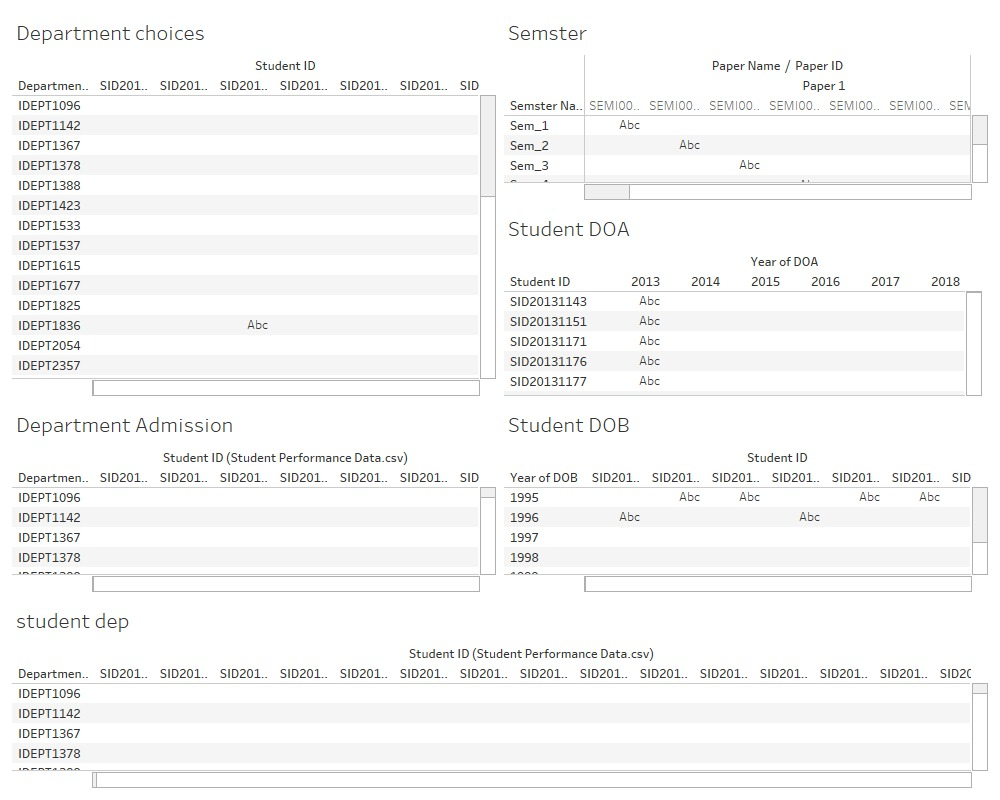

The page's visual inventory and layout, read from the dashboard file:
{"tool":"tableau","page":{"name":"Dashboard 1","canvas":[1000,800],"ordinal":0},"visuals":[{"type":"worksheet","title":"Department choices","mark":"Automatic","rows":["Department_Choices"],"cols":["Student_ID"],"box":[8,8,492,392]},{"type":"worksheet","title":"Semster","mark":"Automatic","rows":["Semster_Name"],"cols":["Paper_Name","Paper_ID"],"box":[500,8,492,196]},{"type":"worksheet","title":"Student DOA","mark":"Automatic","rows":["Student_ID"],"cols":["DOA"],"box":[500,204,492,196]},{"type":"worksheet","title":"Department Admission","mark":"Automatic","rows":["Department_Admission"],"cols":["Student_ID (Student_Performance_Data.csv)"],"box":[8,400,492,196]},{"type":"worksheet","title":"Student DOB","mark":"Automatic","rows":["DOB"],"cols":["Student_ID"],"box":[500,400,492,196]},{"type":"worksheet","title":"student dep","mark":"Automatic","rows":["Department_Admission"],"cols":["Student_ID (Student_Performance_Data.csv)"],"box":[8,596,984,196]}]}

Visuals, with their boxes in screenshot pixels (x1, y1, x2, y2), scaled from the page's 1000x800 canvas onto the 1000x800 screenshot:
"Department choices" worksheet: bbox=(8, 8, 500, 400)
"Semster" worksheet: bbox=(500, 8, 992, 204)
"Student DOA" worksheet: bbox=(500, 204, 992, 400)
"Department Admission" worksheet: bbox=(8, 400, 500, 596)
"Student DOB" worksheet: bbox=(500, 400, 992, 596)
"student dep" worksheet: bbox=(8, 596, 992, 792)
